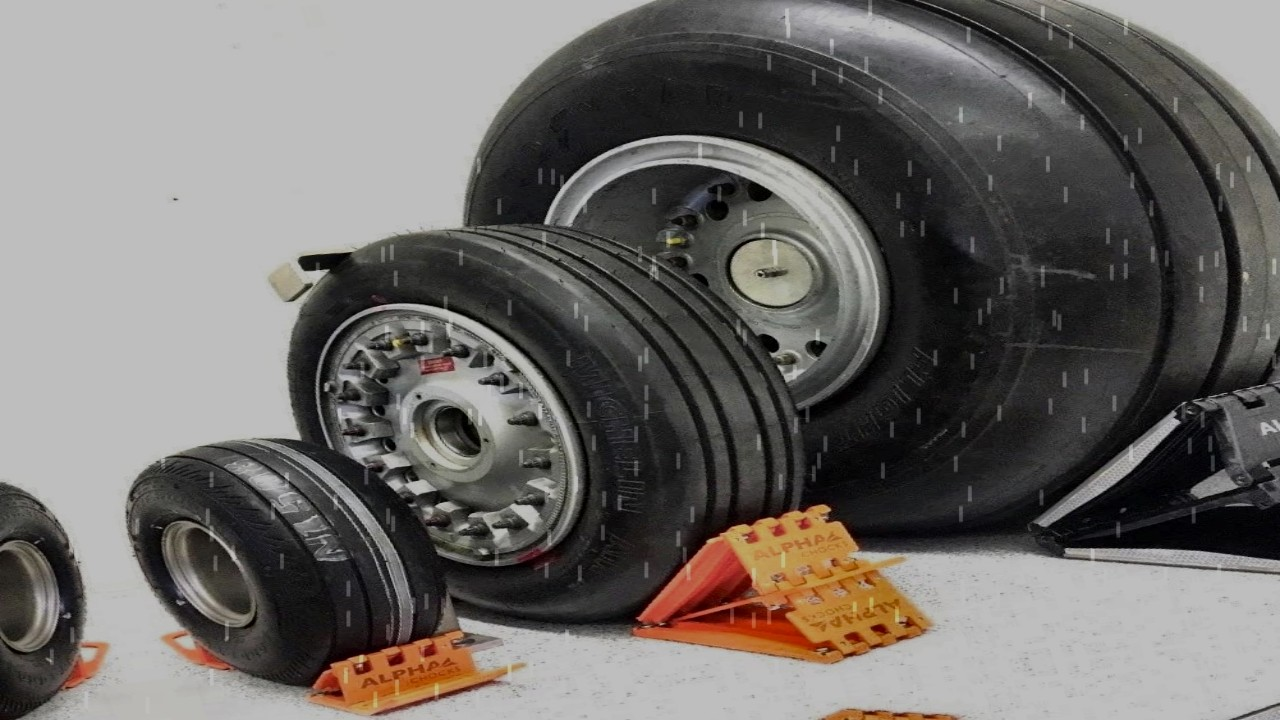chock: (973, 352, 1280, 617), (591, 496, 949, 686), (288, 620, 539, 720)
wheel: (385, 0, 1280, 587), (241, 200, 838, 635), (98, 421, 483, 700), (0, 463, 129, 720)
